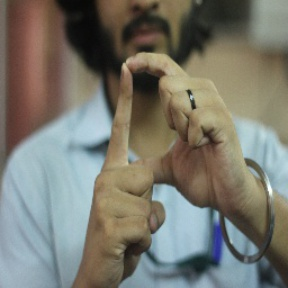D: (97, 46, 226, 201)
